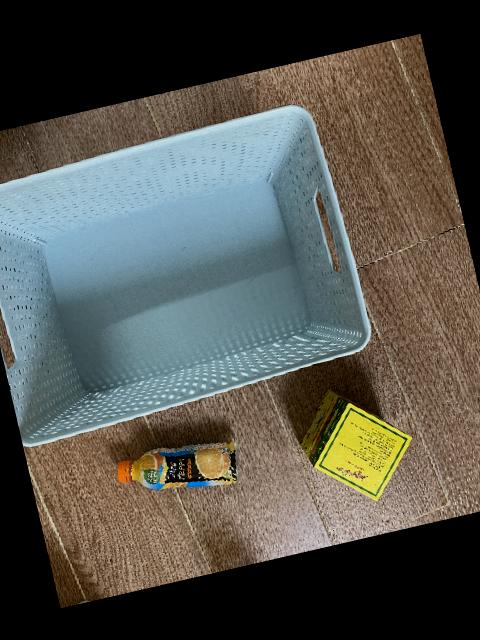cart: (0, 102, 375, 446)
luong_kho: (300, 388, 412, 500)
teppy_orange_juice: (117, 440, 241, 489)
